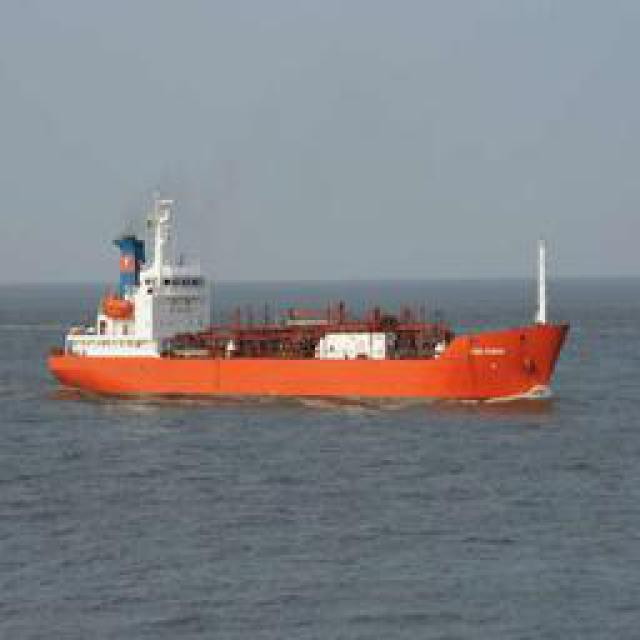Ship: (51, 235, 571, 410)
